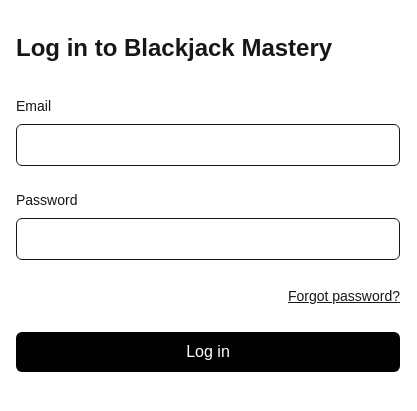
Test case: Login page › shows a safe error when login fails
In the field labelled "Email": (208, 145) [16,124,400,166], type "sean@example.com"
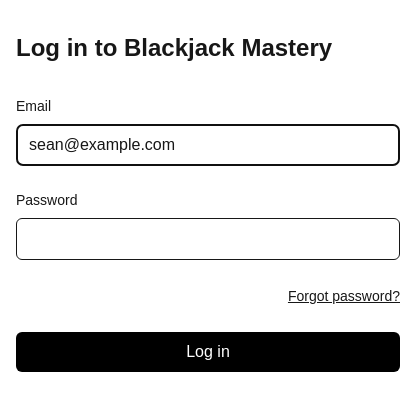
In the password field labelled "Password": (208, 239) [16,218,400,260], type "wrong-password"
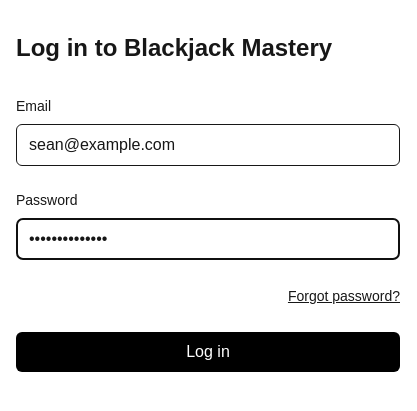
Click the button "Log in": (208, 352) [16,332,400,372]
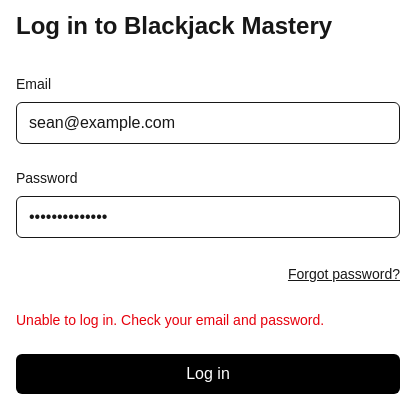
Check: the message reads "Unable to log in. Check your email and password.", box [16,312,324,328]
